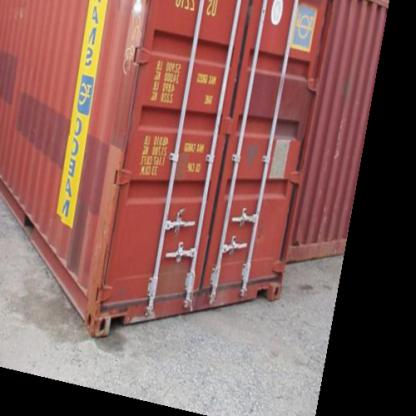Damage: (72, 180, 132, 336), (153, 254, 240, 322), (119, 0, 148, 72)
